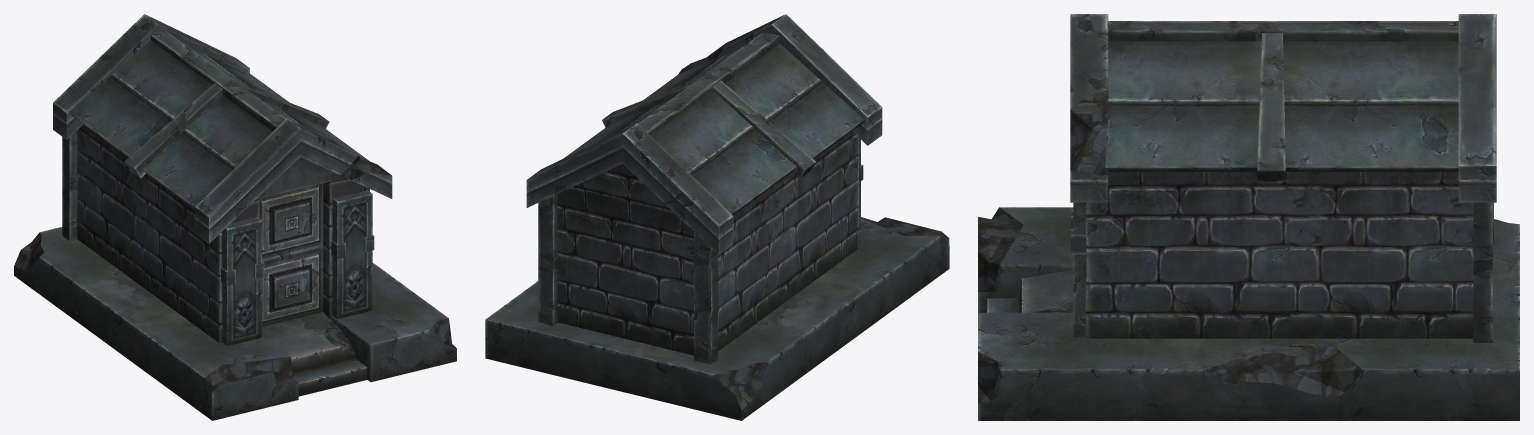
The model's file is C_mushi002.fbx.
3 renders of one model, left to right at view 1: azimuth 30°, elevation 25°; view 2: azimuth 150°, elevation 25°; view 3: azimuth 270°, elevation 25°, orthographic. The views are drawn at different scales.
Parts seen in each view (by area): view 1: C_mushi002; view 2: C_mushi002; view 3: C_mushi002.
Boxes of the visible parts, bbox=[...] form: C_mushi002: bbox=[14, 14, 456, 420]; C_mushi002: bbox=[485, 14, 949, 420]; C_mushi002: bbox=[978, 14, 1519, 420].
Bounding box in the file's own units: 280 × 261 × 393.
